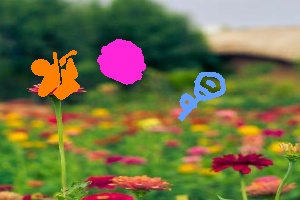拉琴: (32, 51, 81, 100)
汉堡: (97, 38, 146, 84)
钥匙: (177, 72, 227, 121)
